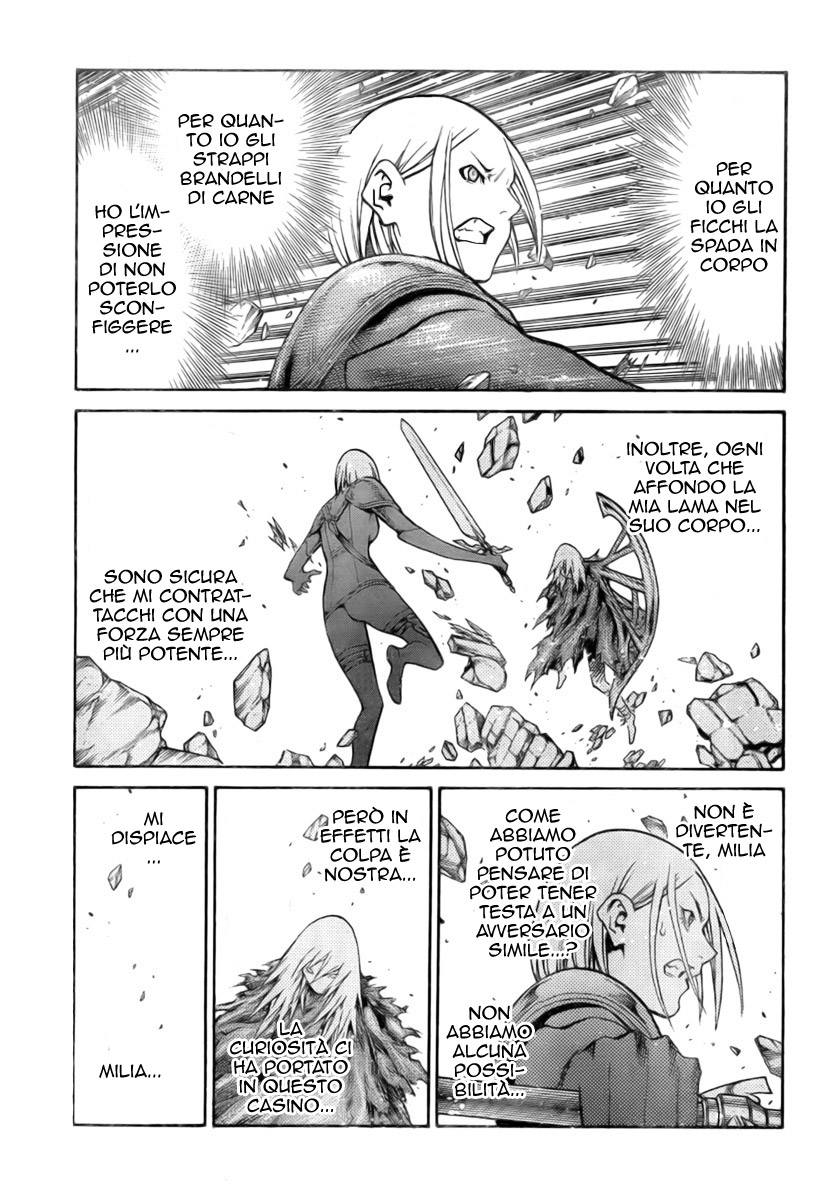Baloon: (665, 74, 793, 363), (78, 151, 196, 385), (151, 78, 289, 262), (469, 803, 595, 971), (618, 436, 771, 545), (91, 565, 249, 663), (222, 1018, 355, 1122), (444, 994, 529, 1111), (316, 803, 425, 894), (676, 798, 775, 865), (105, 809, 196, 851), (98, 1054, 158, 1091)
Vignetta: (73, 411, 784, 771), (73, 69, 785, 389), (440, 791, 782, 1127), (213, 785, 425, 1129), (71, 785, 205, 1123)
